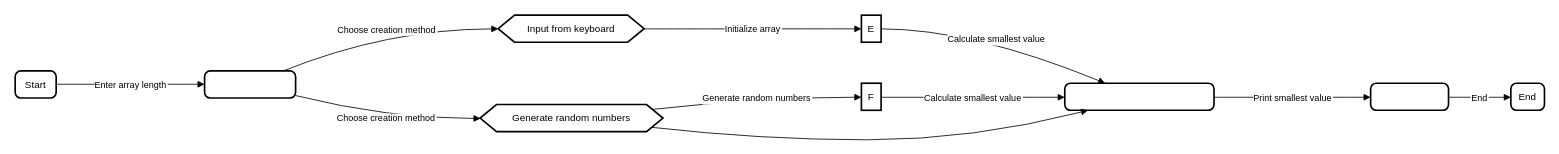
Some shapes in this 1559 by 154 pixel diagram are drawn without their labels. Here are the shapes that lost their labels. From the top down, the centre of each, then its label:
At point (249, 84): "Create arrays".
At point (1139, 96): "Find the smallest value".
At point (1409, 96): "Print result".
